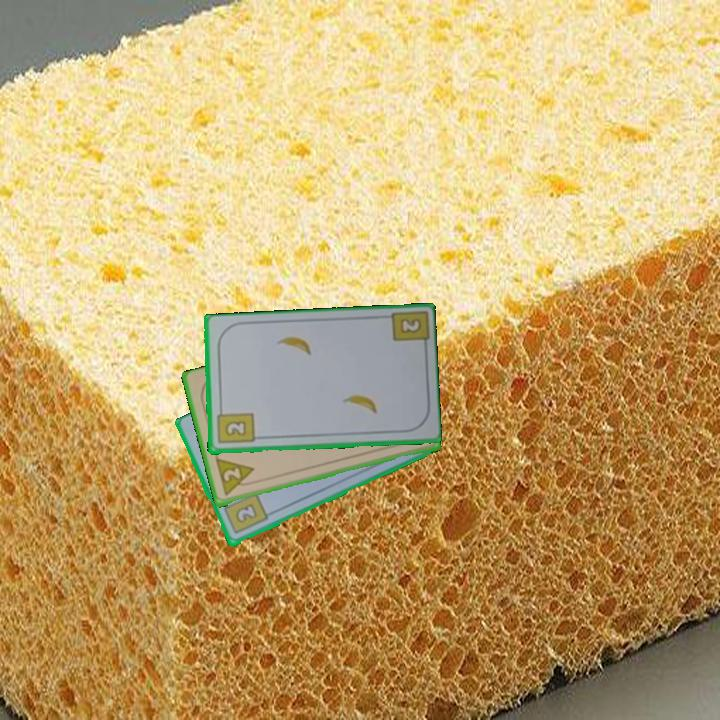2b: (220, 490, 270, 537), (213, 405, 256, 447), (399, 317, 422, 335)
2p: (212, 456, 259, 499)
